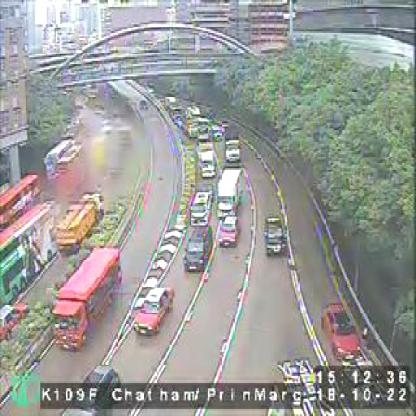Bus: (0, 202, 57, 310), (1, 170, 41, 230)
Car: (58, 364, 120, 416), (324, 301, 362, 362), (133, 284, 175, 336), (0, 300, 30, 344), (184, 227, 212, 274), (189, 190, 213, 227), (265, 213, 286, 255), (221, 214, 241, 250), (197, 124, 212, 142)
Truck: (54, 248, 123, 354), (54, 191, 106, 252), (217, 169, 243, 218), (198, 143, 218, 179), (224, 125, 242, 164)
